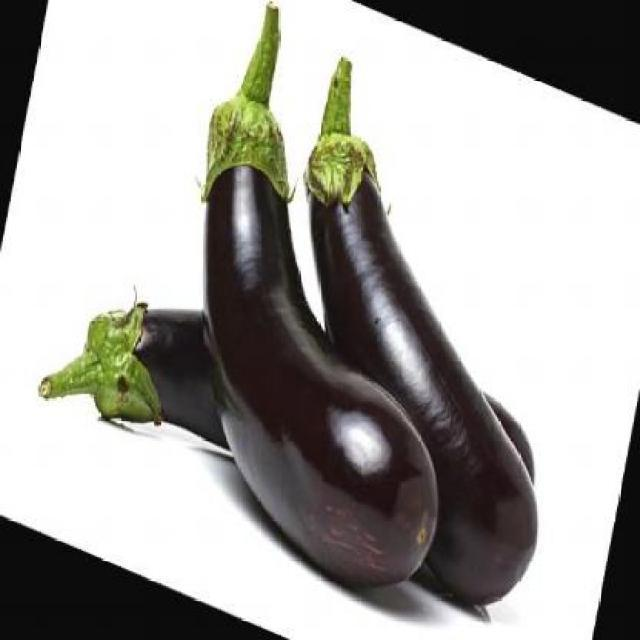eggplant: (239, 53, 551, 628), (195, 0, 441, 590), (38, 294, 548, 492)
